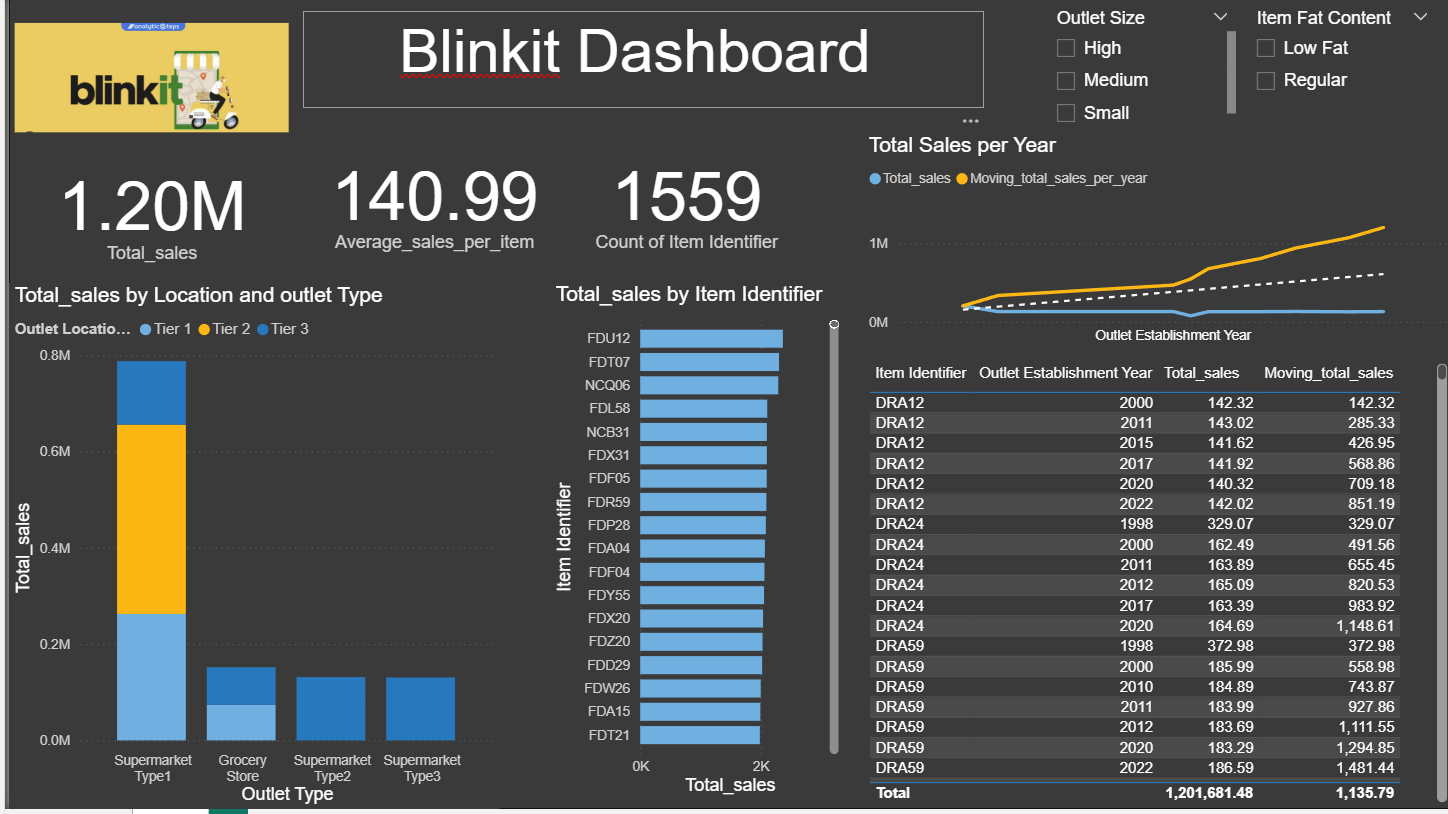

The dashboard page shown, as its layout file describes it:
{"tool":"powerbi","page":{"name":"Page 1","canvas":[1280,720],"ordinal":0},"visuals":[{"type":"card","fields":{"Values":["Measure_table.Total_sales"]},"box":[21.9,124.7,209.5,128.7],"z":1},{"type":"card","fields":{"Values":["Measure_table.Average_sales_per_item"]},"box":[248.4,124.7,258.4,110.7],"z":2},{"type":"card","fields":{"Values":["Count(blinkit.Item Identifier)"]},"box":[495.8,120.7,210.5,119.7],"z":3},{"type":"textbox","box":[260.7,12.4,603.8,86],"z":4},{"type":"image","box":[0,0,253.4,143.7],"z":5},{"type":"lineChart","title":"Total Sales per Year","fields":{"Y":["Measure_table.Total_sales","Measure_table.Moving_total_sales_per_year"],"Category":["blinkit.Outlet Establishment Year"]},"box":[757.2,120.6,523.2,191.5],"z":6},{"type":"barChart","fields":{"Category":["blinkit.Item Identifier"],"Y":["Measure_table.Total_sales"]},"box":[479.7,253,261,459.6],"z":7},{"type":"columnChart","title":"Total_sales by  Location and outlet  Type","fields":{"Category":["blinkit.Outlet Type"],"Y":["Measure_table.Total_sales"],"Series":["blinkit.Outlet Location Type"]},"box":[0,253.4,435,466.9],"z":8},{"type":"slicer","fields":{"Values":["blinkit.Outlet Size"]},"box":[916,5.3,177.3,115.3],"z":9},{"type":"slicer","fields":{"Values":["blinkit.Item Fat Content"]},"box":[1093.3,5.3,177.3,100.2],"z":10},{"type":"tableEx","fields":{"Values":["blinkit.Item Identifier","blinkit.Outlet Establishment Year","Measure_table.Total_sales","Measure_table.Moving_total_sales"]},"box":[756.9,320.5,523.1,399.1],"z":11}]}

Visuals, with their boxes in screenshot pixels (x1, y1, x2, y2), scaled from the page's 1280x720 canvas onto the 1448x814 screenshot:
card - Measure_table.Total_sales: (left=25, top=141, right=262, bottom=286)
card - Measure_table.Average_sales_per_item: (left=281, top=141, right=573, bottom=266)
card - Count(blinkit.Item Identifier): (left=561, top=136, right=799, bottom=272)
textbox: (left=295, top=14, right=978, bottom=111)
image: (left=0, top=0, right=287, bottom=162)
"Total Sales per Year" lineChart: (left=857, top=136, right=1447, bottom=353)
barChart - blinkit.Item Identifier x Measure_table.Total_sales: (left=543, top=286, right=838, bottom=806)
"Total_sales by  Location and outlet  Type" columnChart: (left=0, top=286, right=492, bottom=813)
slicer - blinkit.Outlet Size: (left=1036, top=6, right=1237, bottom=136)
slicer - blinkit.Item Fat Content: (left=1237, top=6, right=1437, bottom=119)
tableEx - blinkit.Item Identifier x blinkit.Outlet Establishment Year: (left=856, top=362, right=1447, bottom=813)
